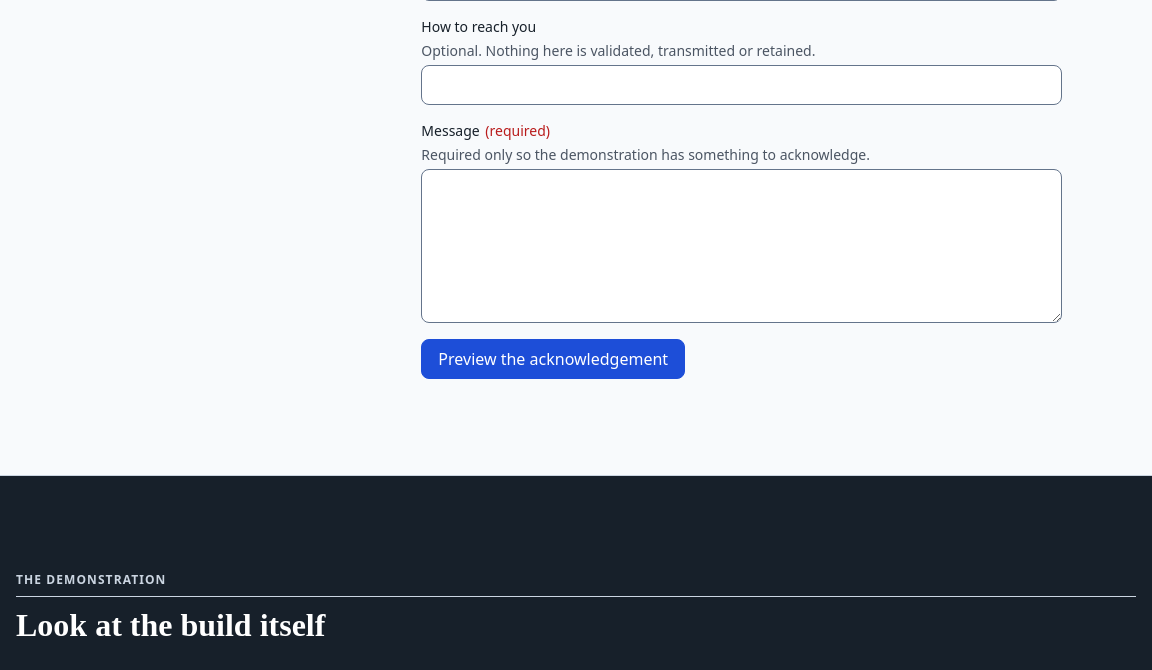
Scenario: Acknowledgement behavior (AC-41, AC-42) › shows the required-field error and no acknowledgement on an empty message
(page scrolled)
Click the button "Preview the acknowledgement": {"x": 553, "y": 359} [421, 339, 685, 379]
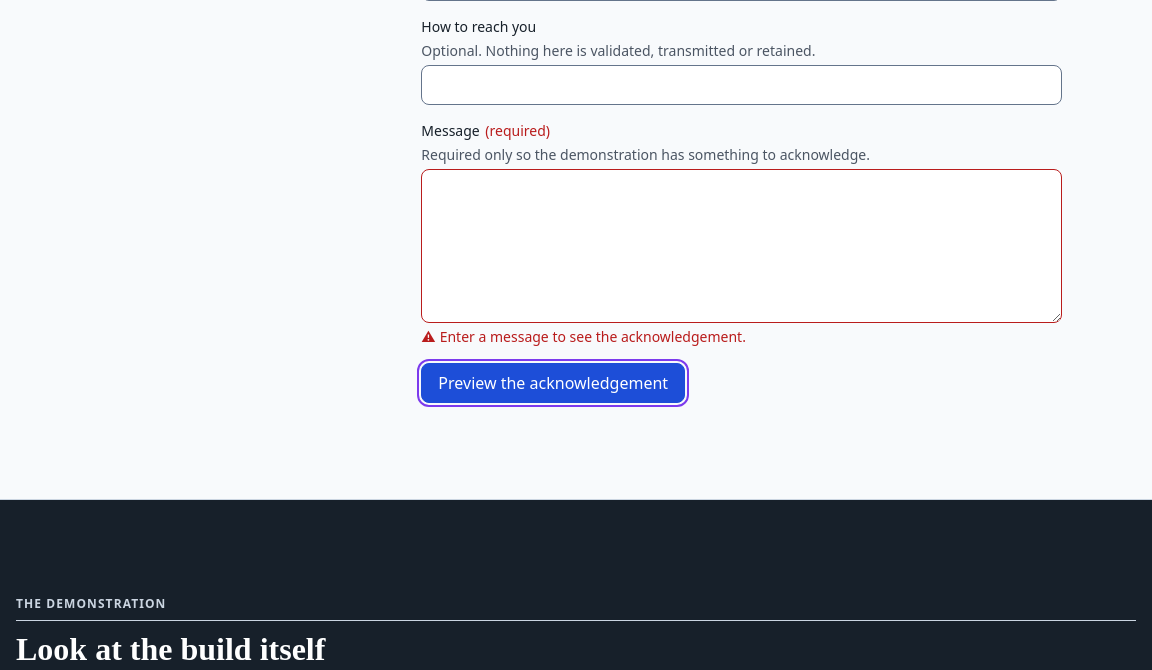
Expected: the text "Enter a message to see the acknowledgement." is shown, [440, 327, 746, 346]
